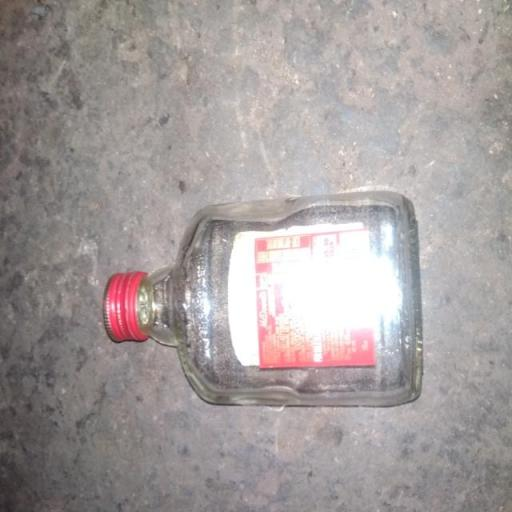glass: (95, 158, 434, 459)
